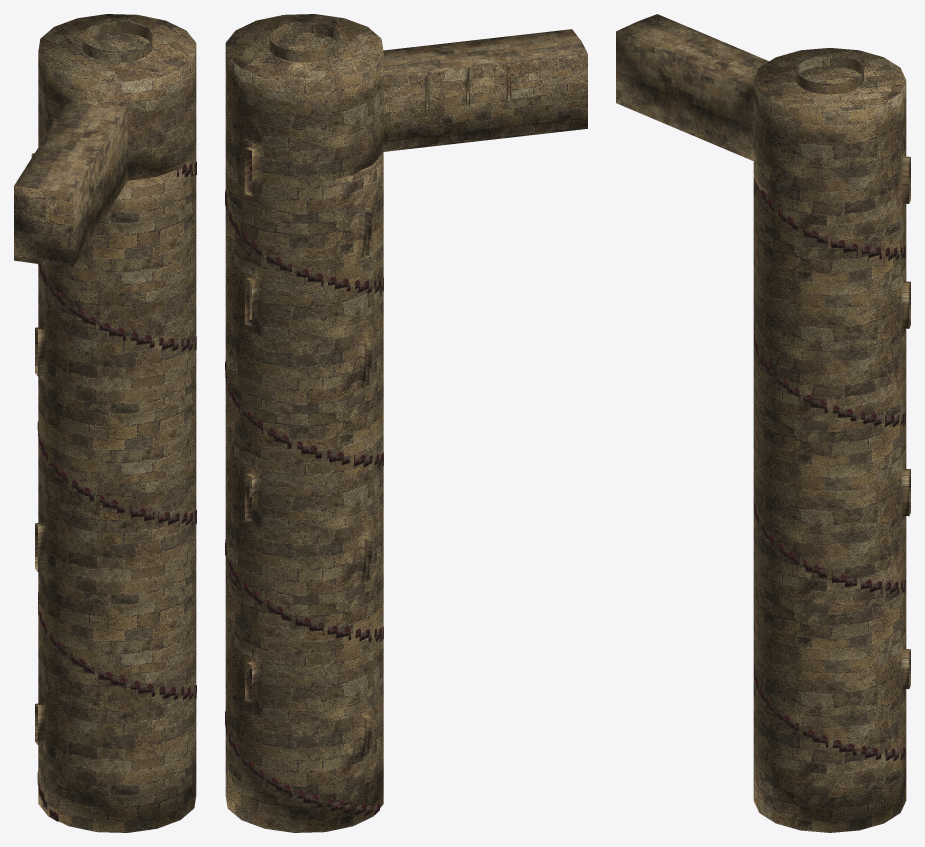
File: SpiralShell.glb
The picture shows the model from 3 angles, left to right: view 1: azimuth 30°, elevation 25°; view 2: azimuth 150°, elevation 25°; view 3: azimuth 270°, elevation 25°; orthographic projection. The views are drawn at different scales.
Parts seen in each view (by area): view 1: OuterWall, Stairs; view 2: OuterWall, Stairs; view 3: OuterWall, Stairs.
Part boxes in pixels (x1,y1,x2,y2): OuterWall: (14,14,196,832); Stairs: (37,161,196,821); OuterWall: (225,14,587,832); Stairs: (225,150,383,816); OuterWall: (616,14,910,832); Stairs: (753,186,905,760).
Size of the model in its own units: 7.62 by 21.17 by 7.74.
2 materials, 2 textured.
